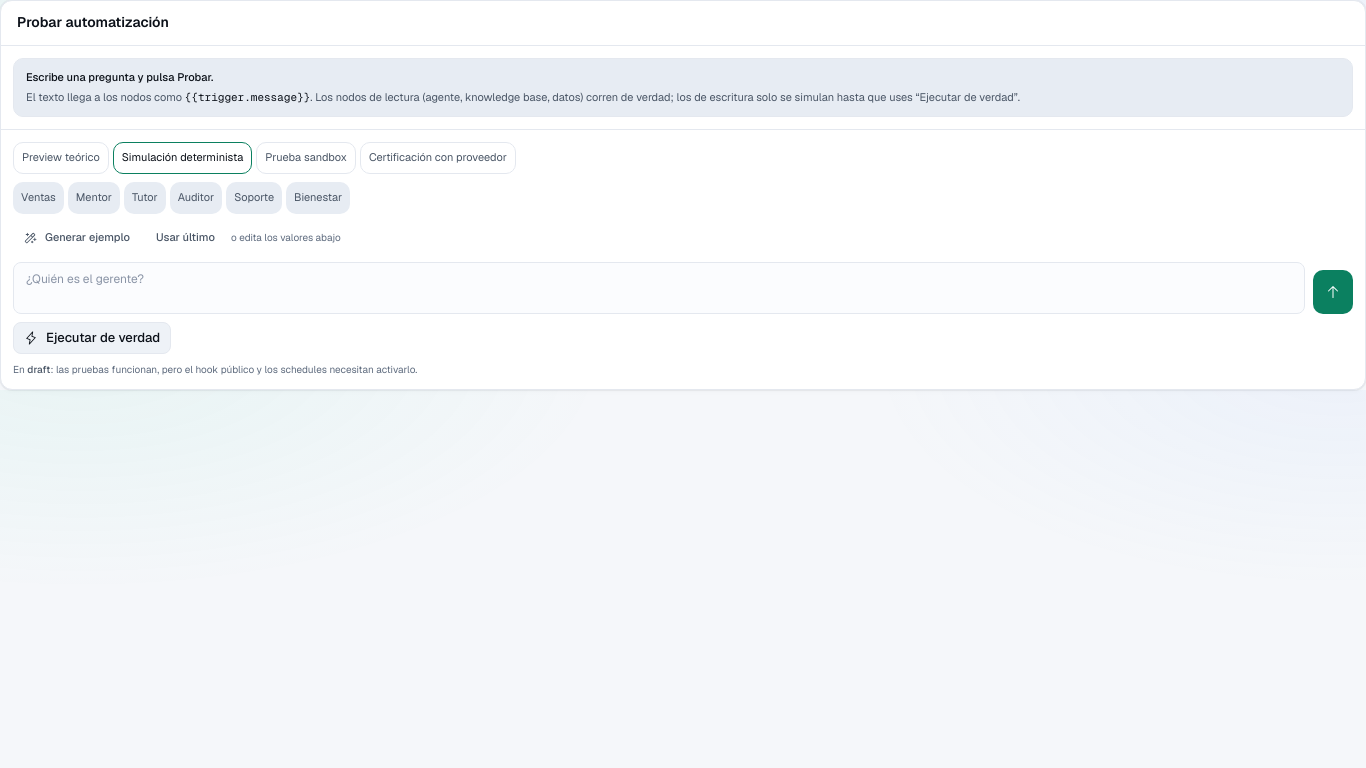
Test case: WorkflowTestPanel (dock de prueba) › muestra la respuesta del agente como texto, no como JSON
Type "quien es el gerente" into the text box with test id "wf-test-payload".
click(659, 288); type("quien es el gerente")  # box [13, 262, 1305, 314]
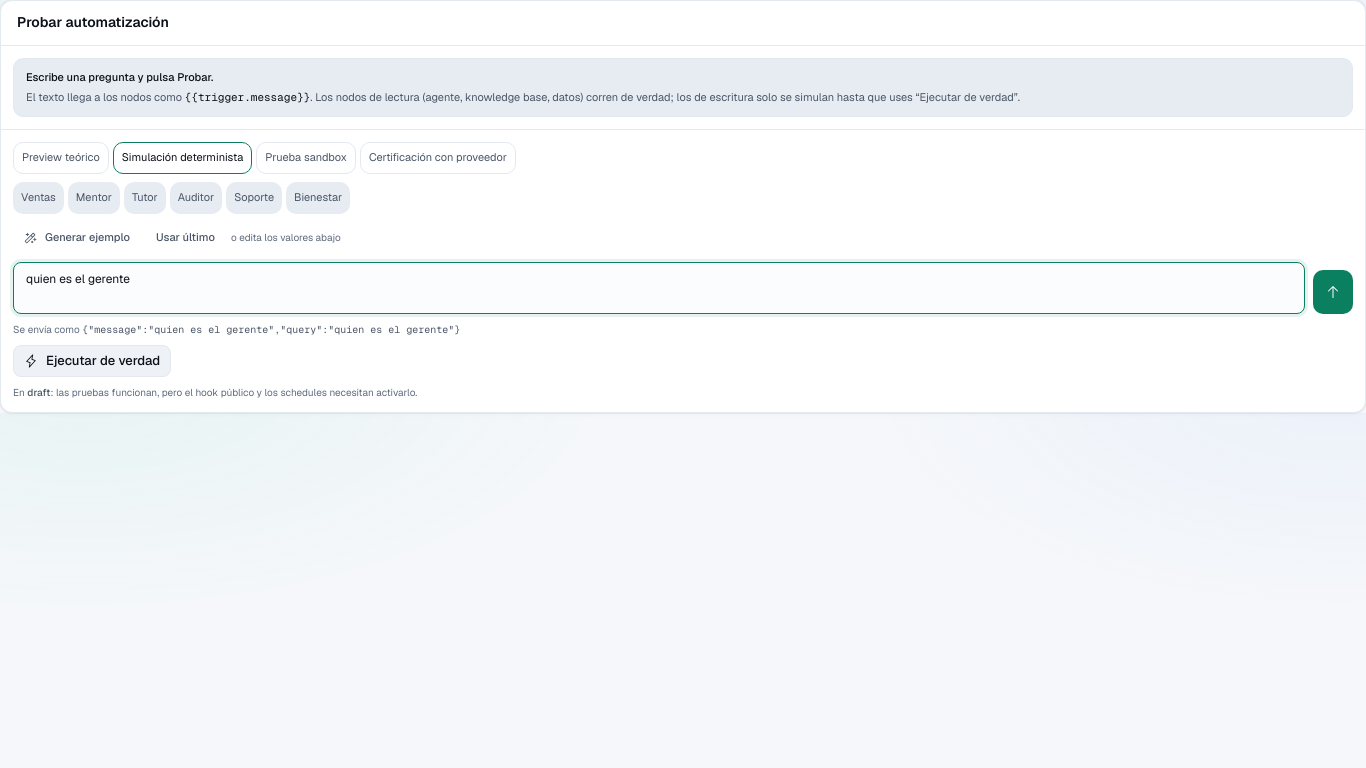
Now the element with test id "wf-payload-wrapped" shows "\"message\":\"quien es el gerente\"", box [82, 323, 460, 336]
Click the button with test id "wf-run".
click(92, 361)  # box [13, 345, 171, 377]
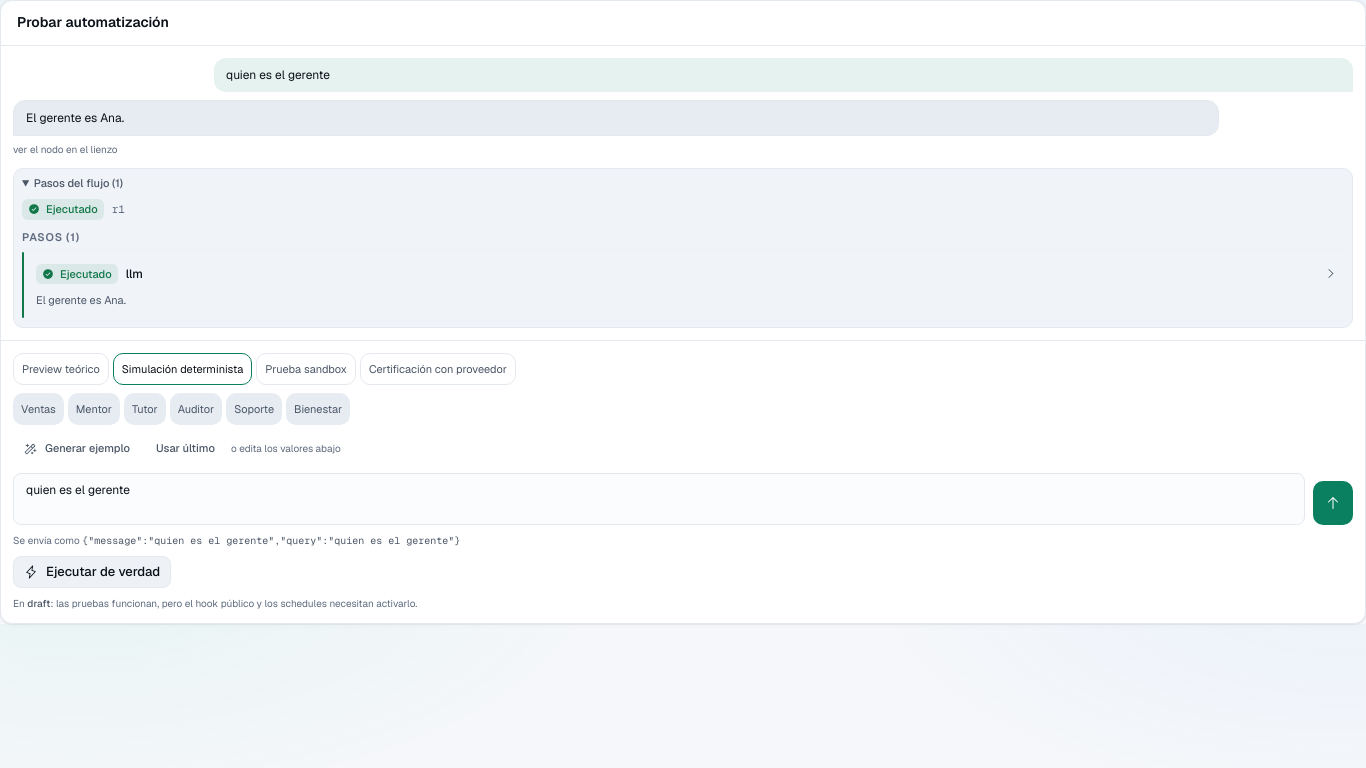
Now the text with test id "wf-chat-answer" reads "El gerente es Ana.", box [26, 110, 124, 126]
Now the text with test id "wf-chat-user" reads "quien es el gerente", box [226, 67, 330, 83]
